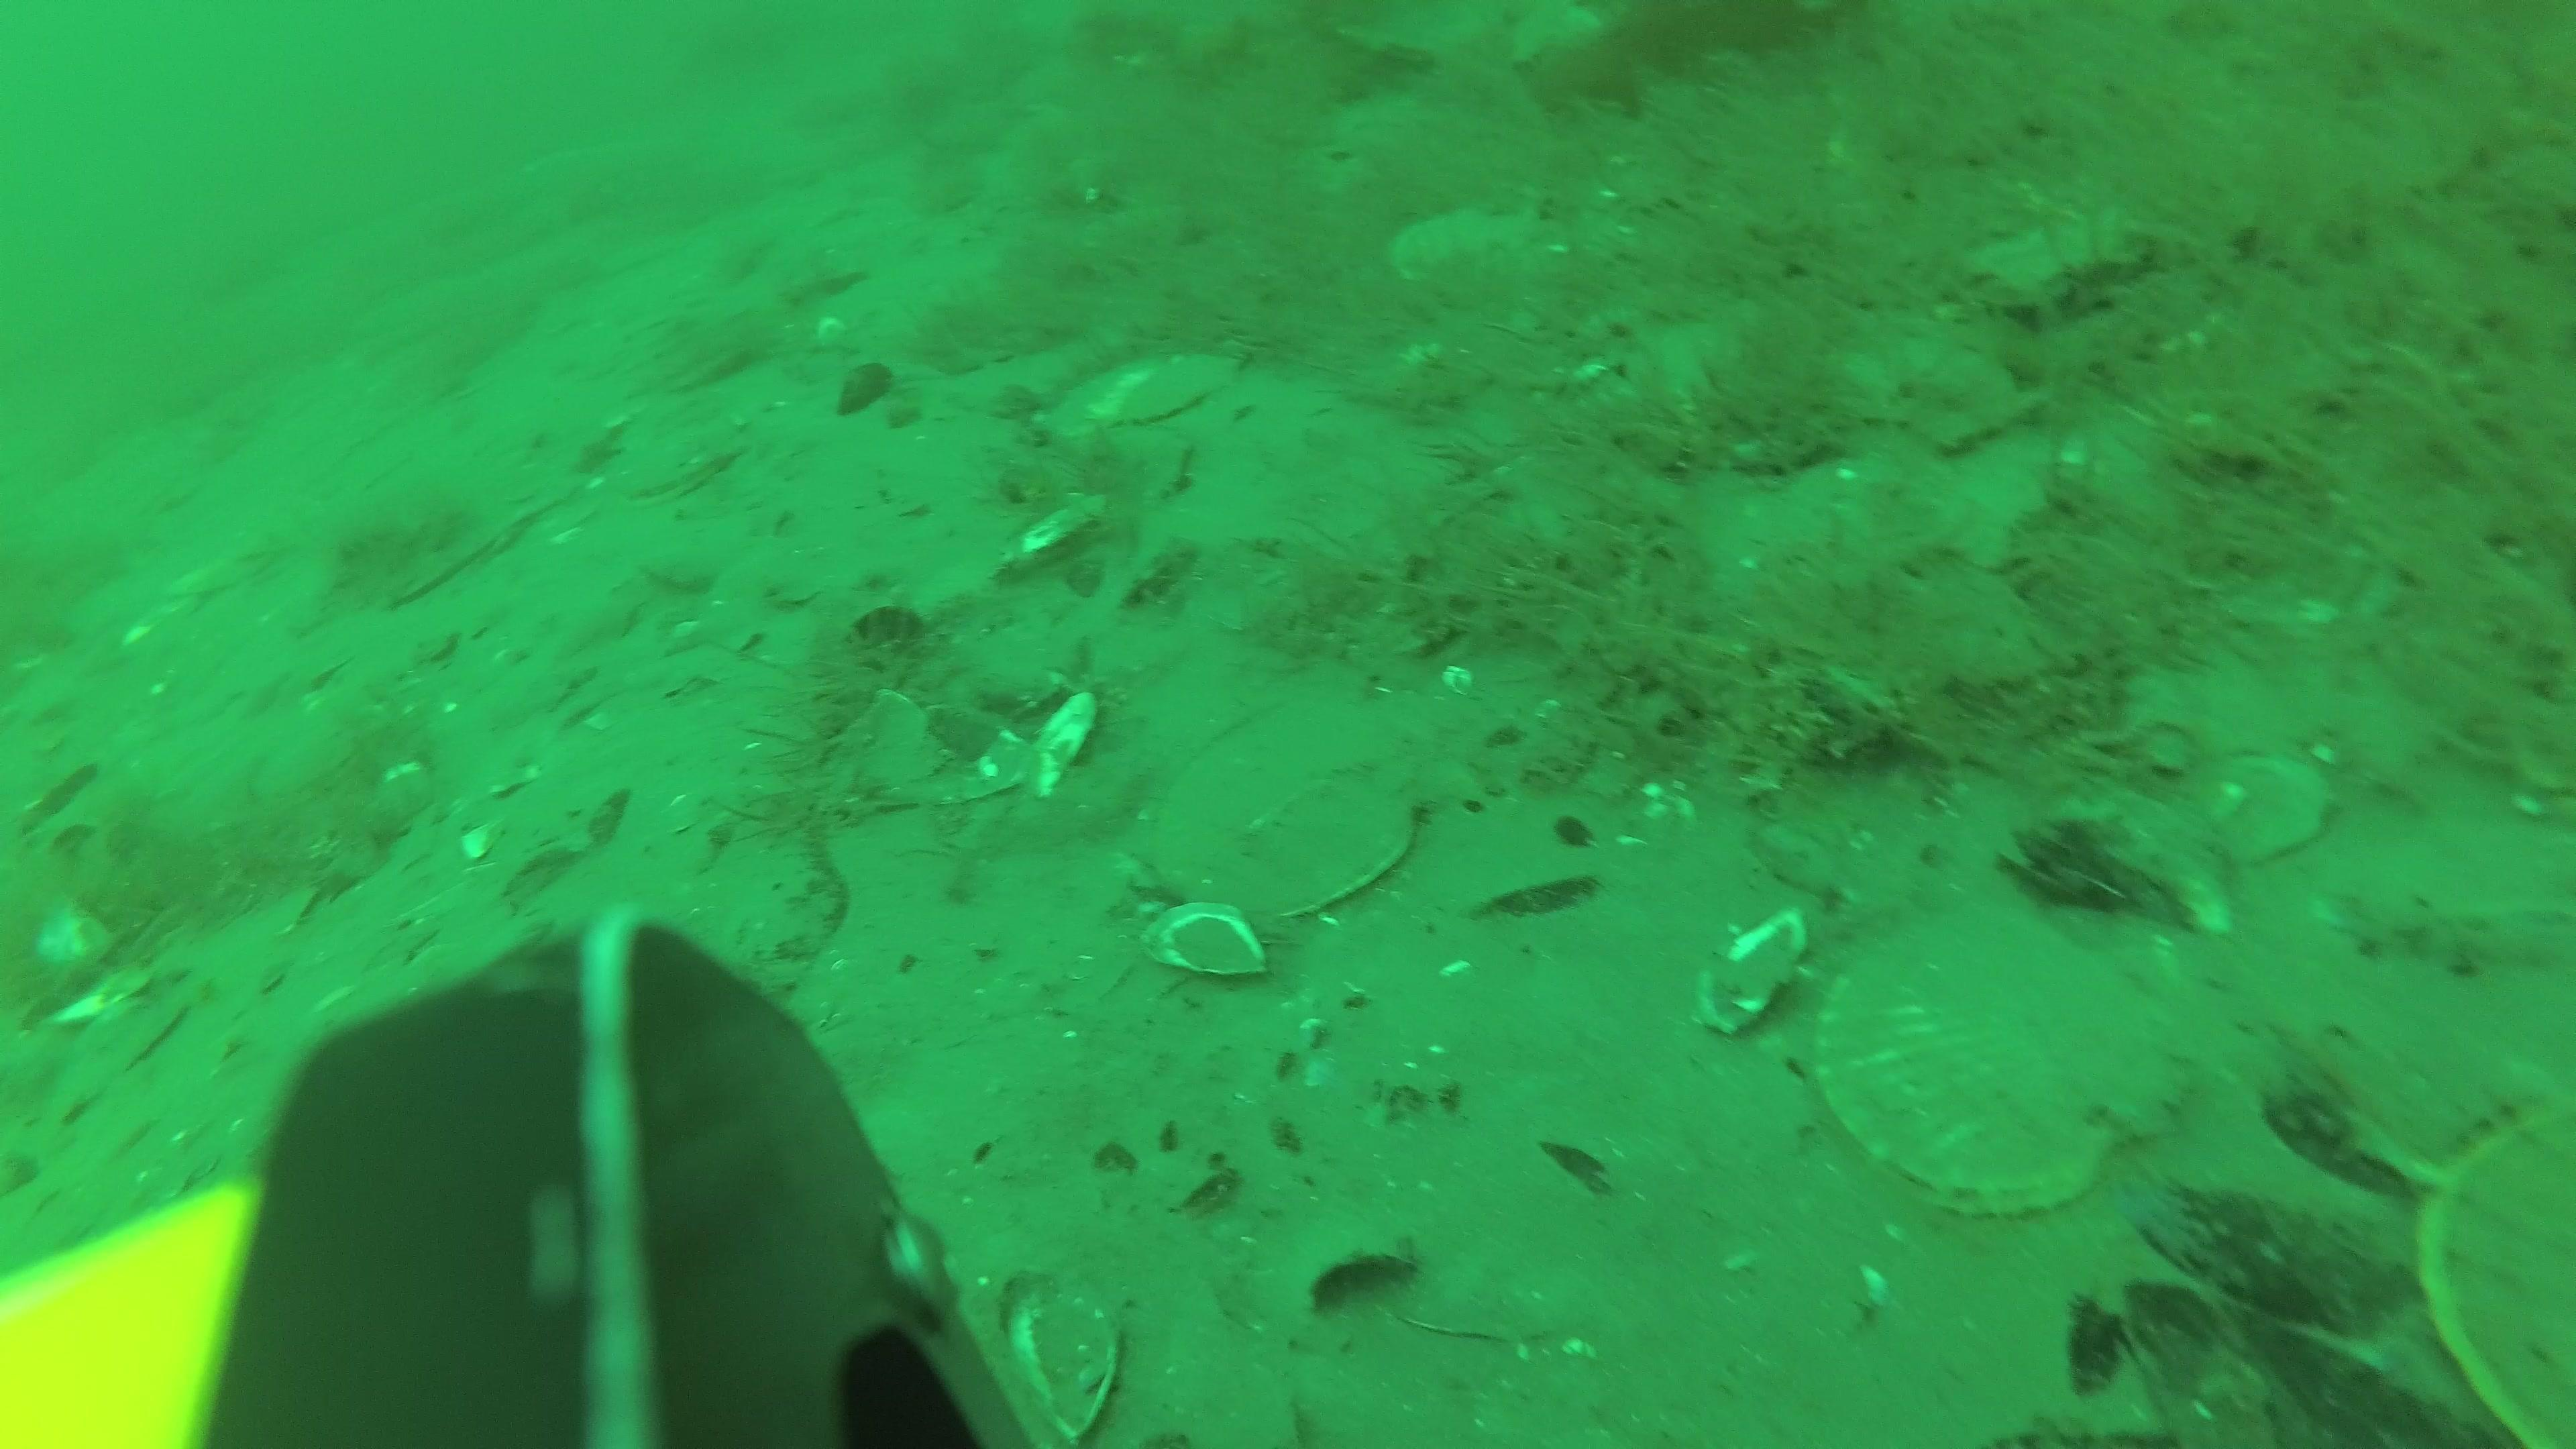scallop: (1819, 902, 2187, 1214), (1159, 697, 1483, 927), (2424, 1085, 2576, 1449), (1392, 209, 1555, 299), (628, 419, 755, 508), (1028, 356, 1132, 441), (1132, 345, 1238, 425)
